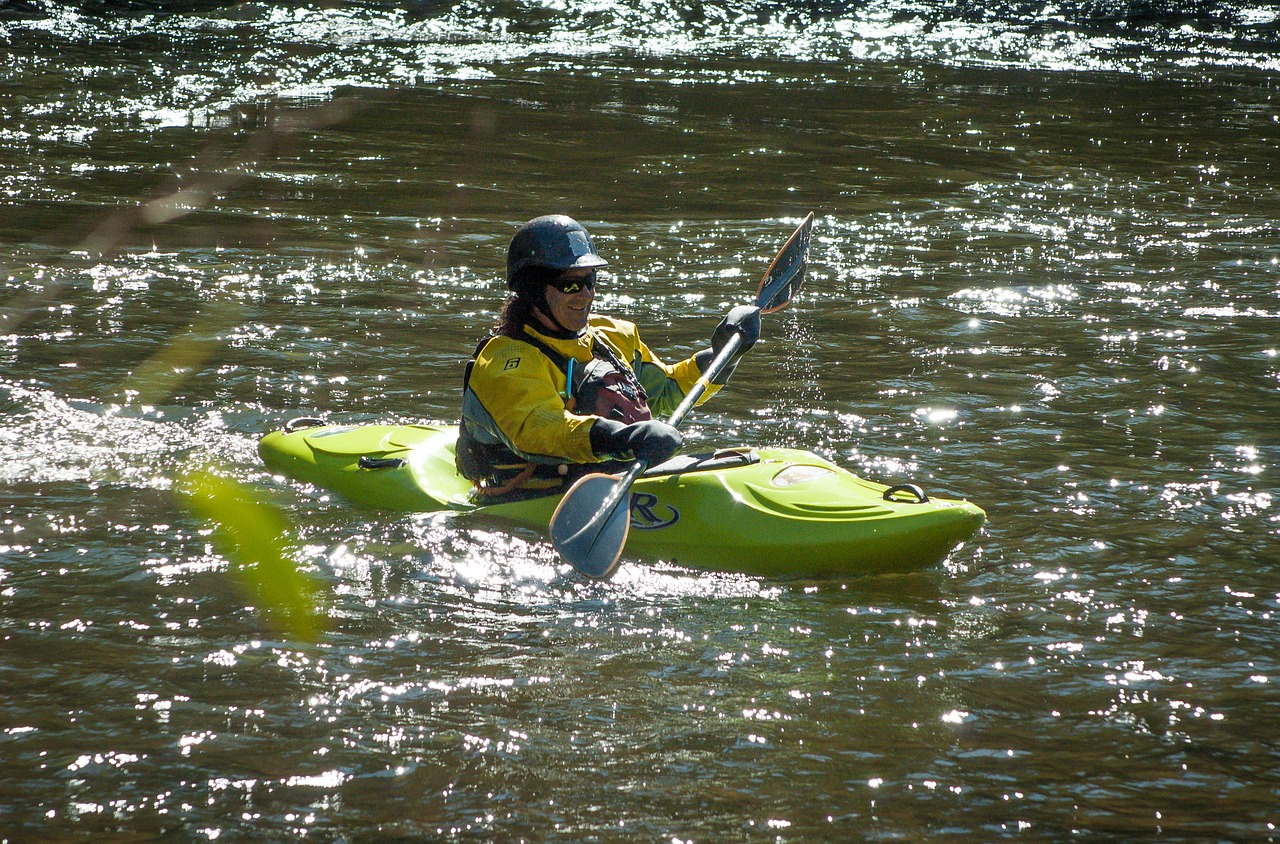kayak: (253, 420, 993, 584)
